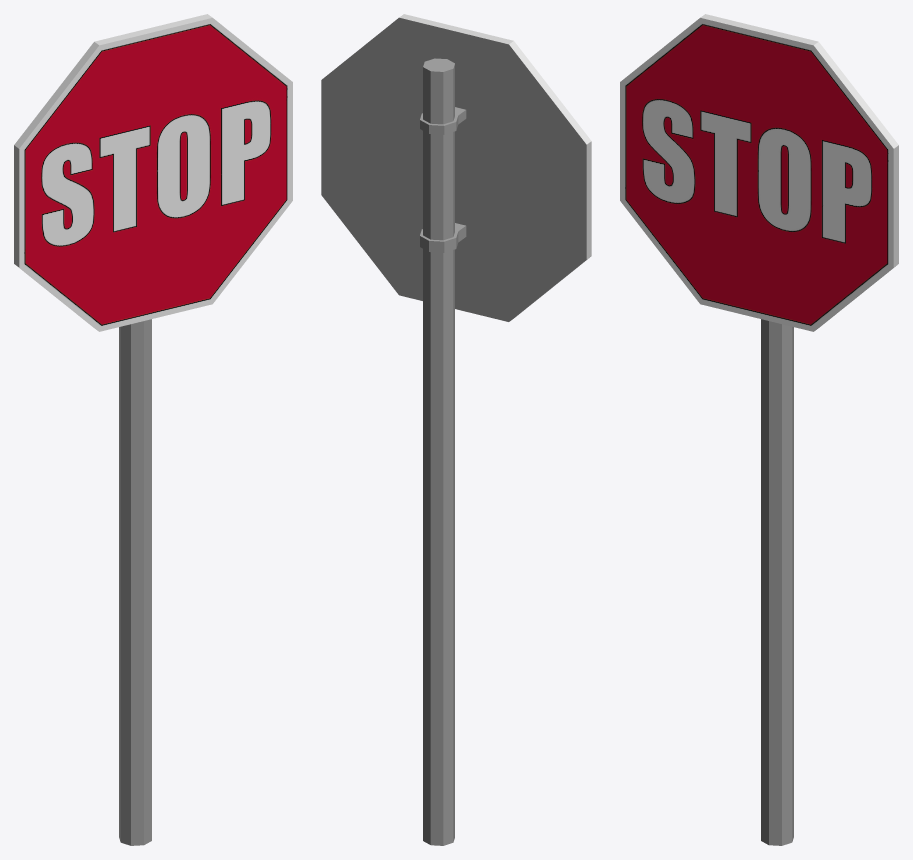
The model's file is stop.glb.
3 views of the same model, side by side, from view 1: azimuth 30°, elevation 25°; view 2: azimuth 150°, elevation 25°; view 3: azimuth 330°, elevation 25° (orthographic). The views are drawn at different scales.
Parts seen in each view (by area): view 1: Circle; view 2: Circle; view 3: Circle.
Part boxes in pixels (x1,y1,x2,y2): Circle: [14, 14, 292, 845]; Circle: [321, 14, 591, 845]; Circle: [620, 14, 898, 845].
Bounding box in the file's own units: 92.39 × 265 × 18.
Materials: 3 (1 with a texture image).
